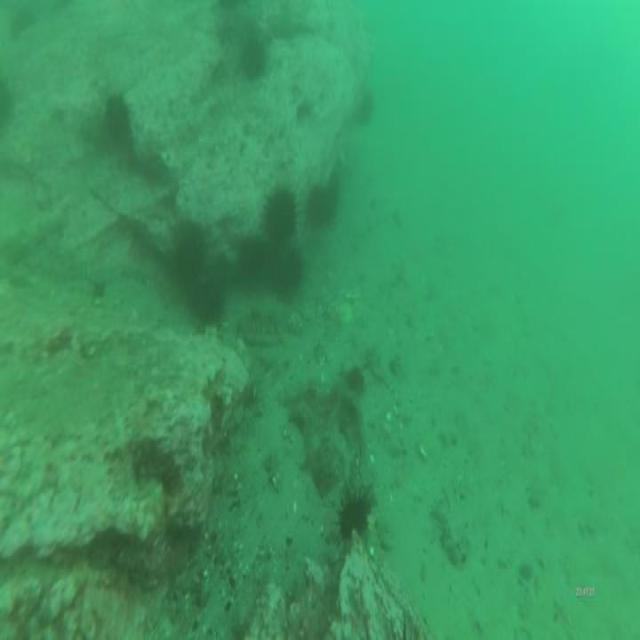echinus: (260, 180, 302, 247), (332, 482, 375, 545), (190, 264, 228, 332), (170, 221, 208, 288), (102, 88, 134, 154), (274, 243, 306, 296), (239, 30, 269, 84), (303, 177, 329, 235), (0, 70, 16, 146), (351, 89, 378, 132)
holothurian: (230, 302, 292, 344)
